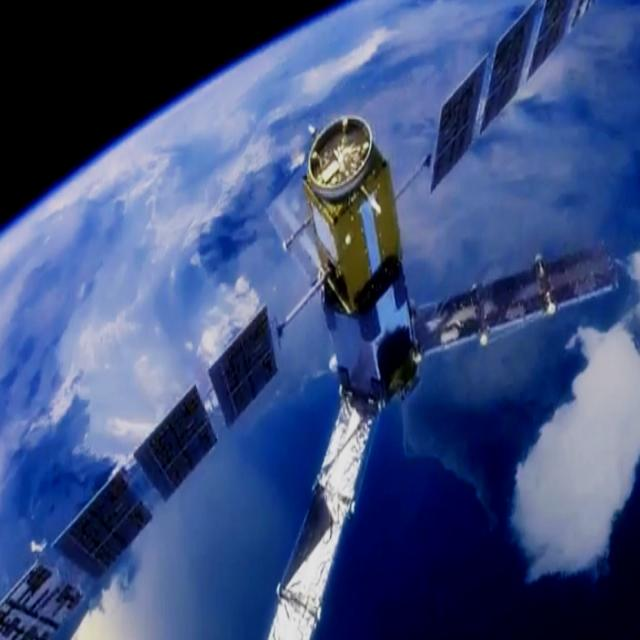satellite: (0, 2, 629, 640)
